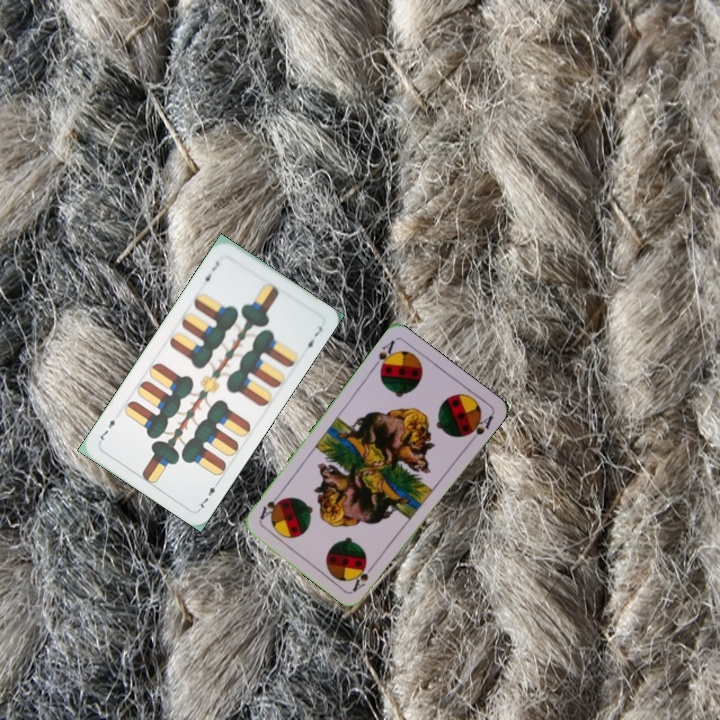E7: (195, 476, 222, 512), (198, 257, 222, 287)
SA: (368, 336, 398, 375), (349, 558, 378, 593)
